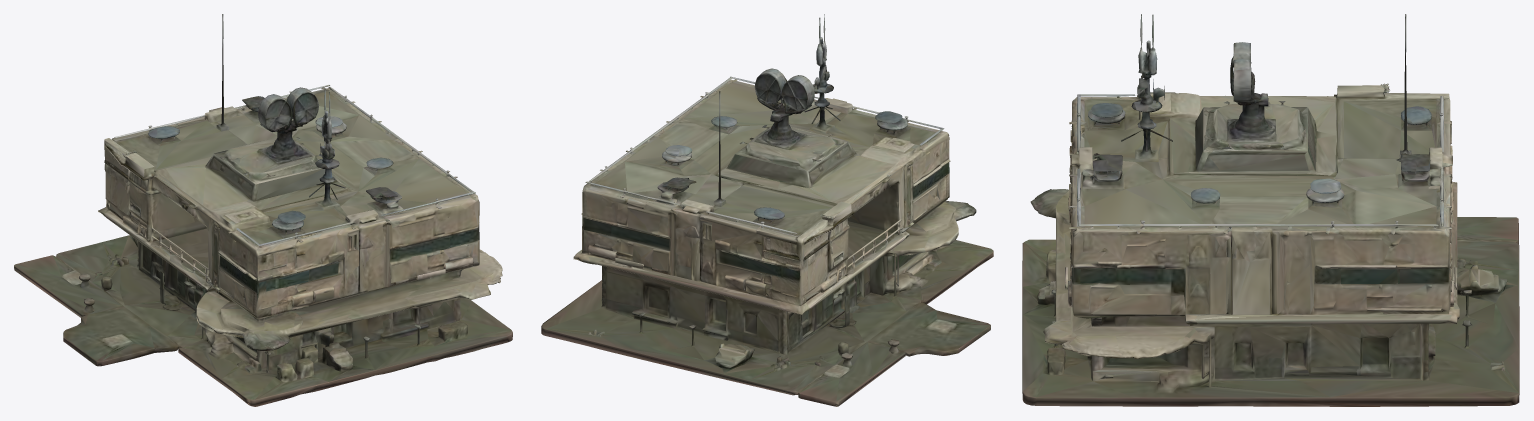
The picture shows the model from 3 angles, left to right: view 1: azimuth 30°, elevation 25°; view 2: azimuth 150°, elevation 25°; view 3: azimuth 270°, elevation 25°; orthographic projection. The views are drawn at different scales.
Size of the model in its own units: 26 by 17.32 by 25.11.
Materials: 1 (1 with a texture image).
